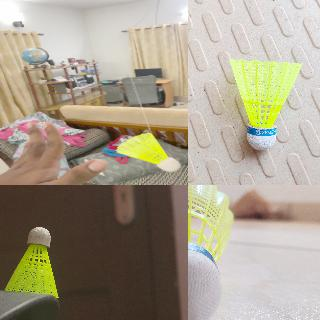shuttlecock: (230, 60, 302, 150), (188, 185, 235, 319), (4, 227, 58, 297), (114, 133, 180, 171)
